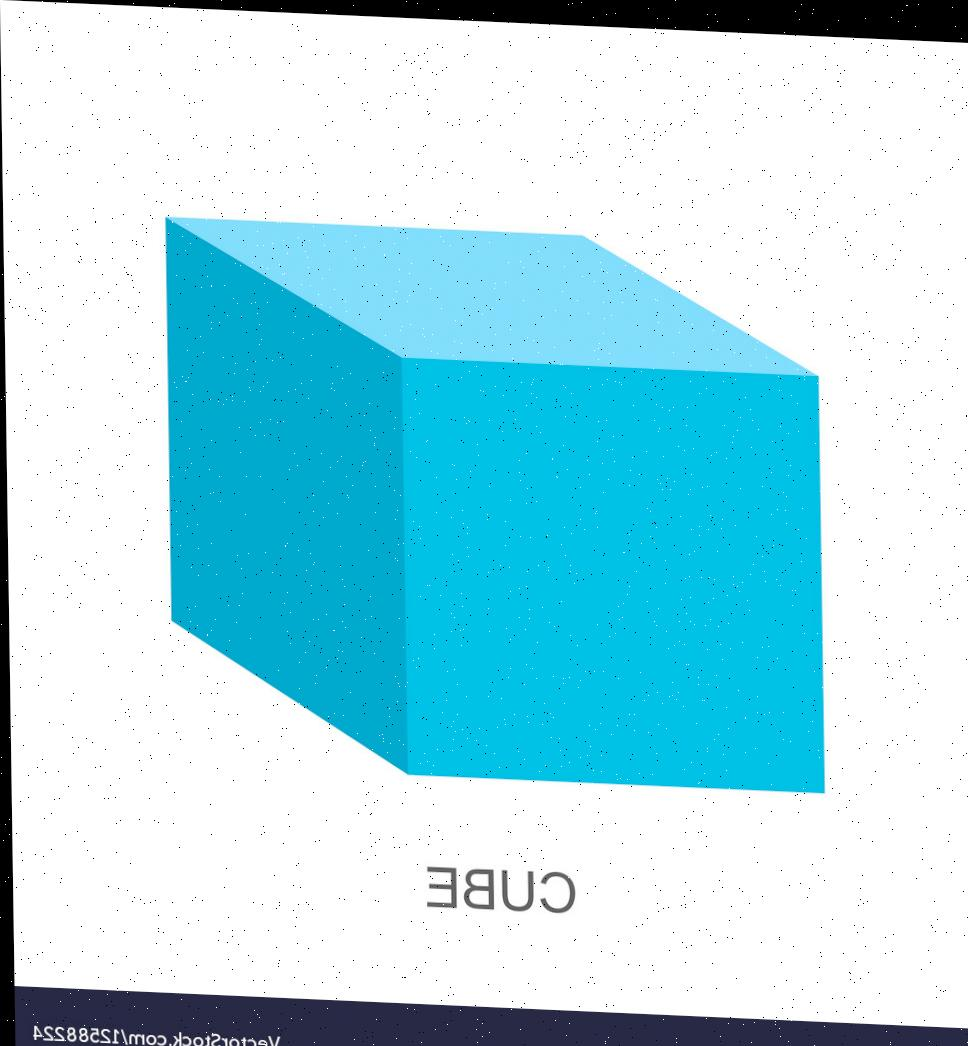cube: (140, 207, 835, 796)
